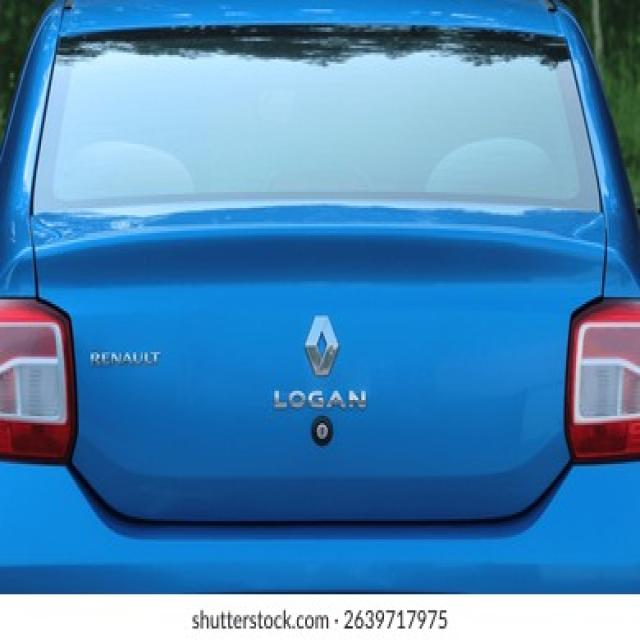renault: (305, 312, 338, 380)
